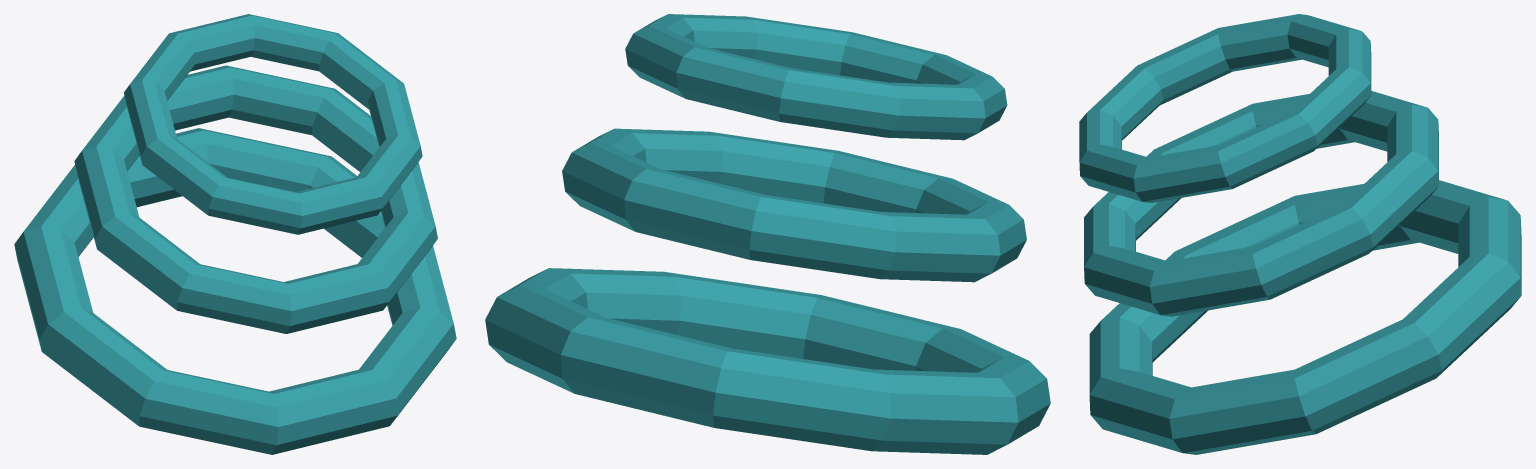
Rendered from SM_Teleport.fbx.
3 views of the same model, side by side, from view 1: azimuth 30°, elevation 25°; view 2: azimuth 150°, elevation 25°; view 3: azimuth 270°, elevation 25° (orthographic). The views are drawn at different scales.
Parts seen in each view (by area): view 1: Teleport; view 2: Teleport; view 3: Teleport.
Boxes of the visible parts, left/top/right/bottom form: Teleport: left=14, top=14, right=456, bottom=454; Teleport: left=485, top=14, right=1050, bottom=454; Teleport: left=1079, top=14, right=1521, bottom=454.
Size of the model in its own units: 8.77 by 7.2 by 8.08.
